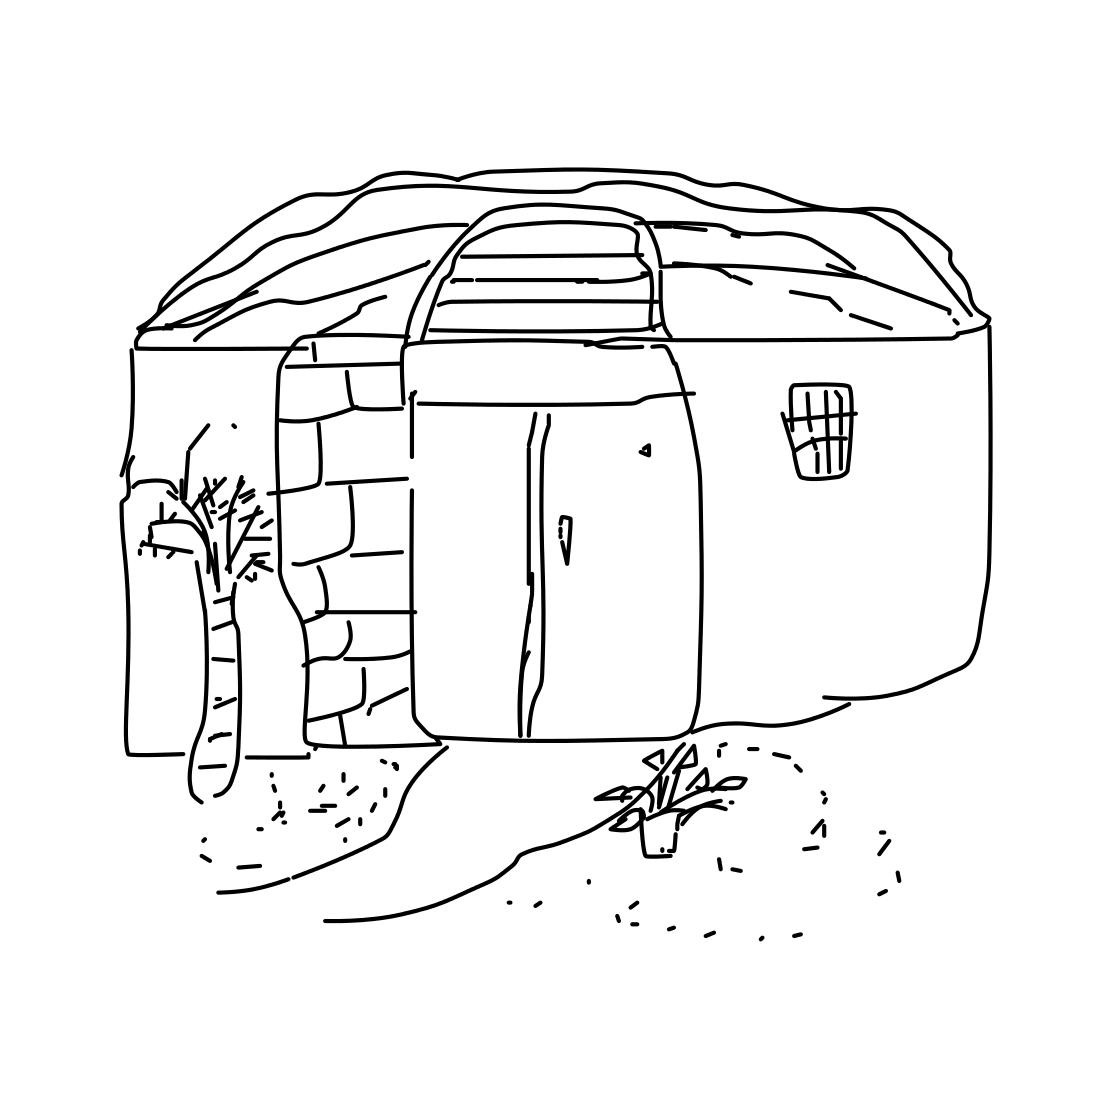House: (68, 135, 1006, 759)
